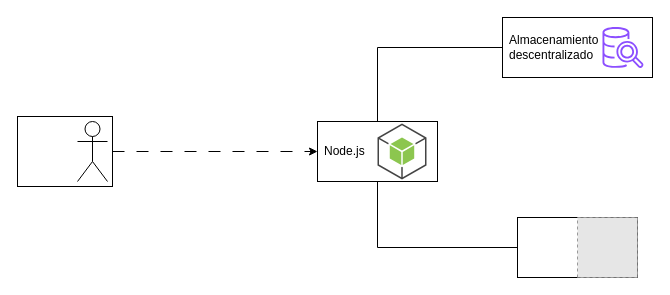
Some shapes in this 670 by 295 pixel diagram are drawn without their labels. Grey dashed boxes stand in for pictures. The shapes that lost their labels are listed below. From the top down, each one's box as (x1, y1, x2, y2) in pixels, then its label:
(16, 116, 112, 186): Usuario
(516, 216, 638, 278): La ruleta en Ethereum
